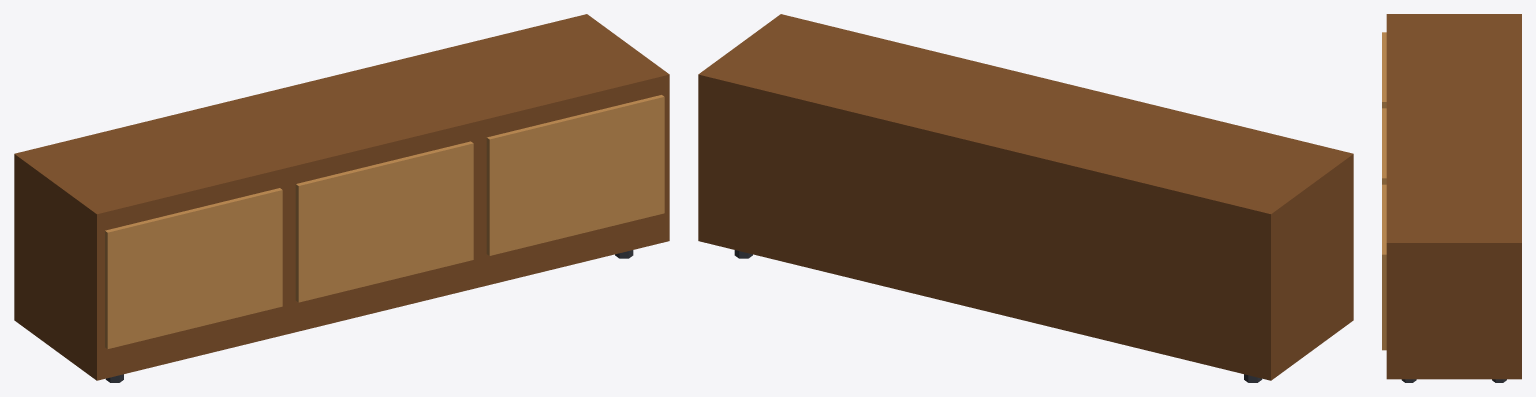
Rendered from tv_stand.glb.
3 renders of one model, left to right at view 1: azimuth 30°, elevation 25°; view 2: azimuth 150°, elevation 25°; view 3: azimuth 270°, elevation 25°, orthographic. The views are drawn at different scales.
Parts seen in each view (by area): view 1: tv_stand; view 2: tv_stand; view 3: tv_stand.
Boxes of the visible parts, <box> form: tv_stand: <box>14,14,669,382</box>; tv_stand: <box>698,14,1353,382</box>; tv_stand: <box>1382,14,1521,382</box>.
Size of the model in its own units: 1.8 by 0.55 by 0.465.
